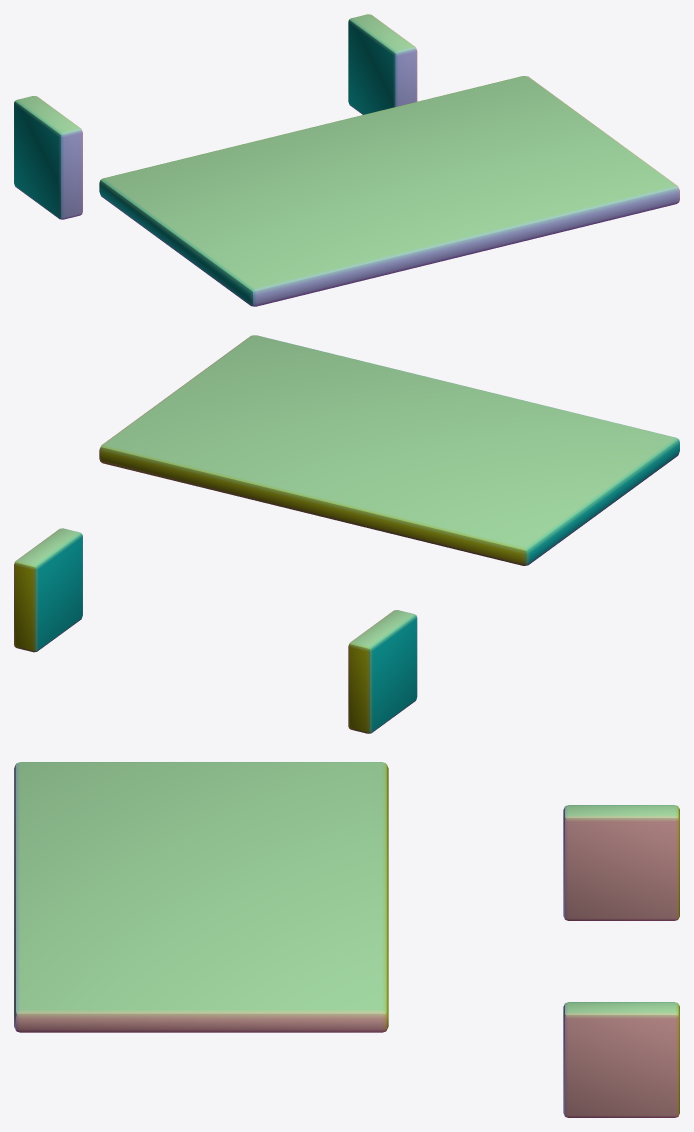
Rendered from kitchen_honey_shelf.glb.
3 renders of one model, top to bottom at view 1: azimuth 30°, elevation 25°; view 2: azimuth 150°, elevation 25°; view 3: azimuth 270°, elevation 25°, orthographic. The views are drawn at different scales.
Parts seen in each view (by area): view 1: kitchen_honey_shelf; view 2: kitchen_honey_shelf; view 3: kitchen_honey_shelf.
Part boxes in pixels (x1,y1,x2,y2): kitchen_honey_shelf: [14, 14, 679, 306]; kitchen_honey_shelf: [14, 335, 679, 733]; kitchen_honey_shelf: [14, 762, 679, 1117].
Size of the model in its own units: 0.72 by 0.17 by 0.8.
